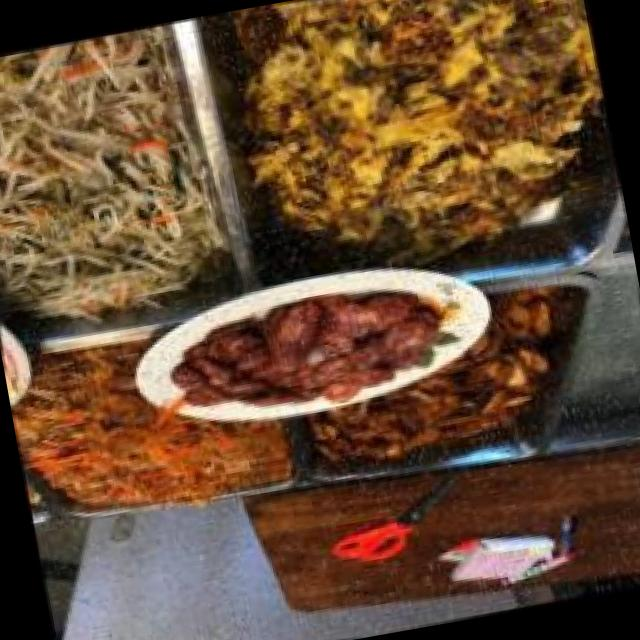chinese_sausage: (183, 282, 439, 421)
mung_bean_sprouts: (0, 20, 224, 336)
